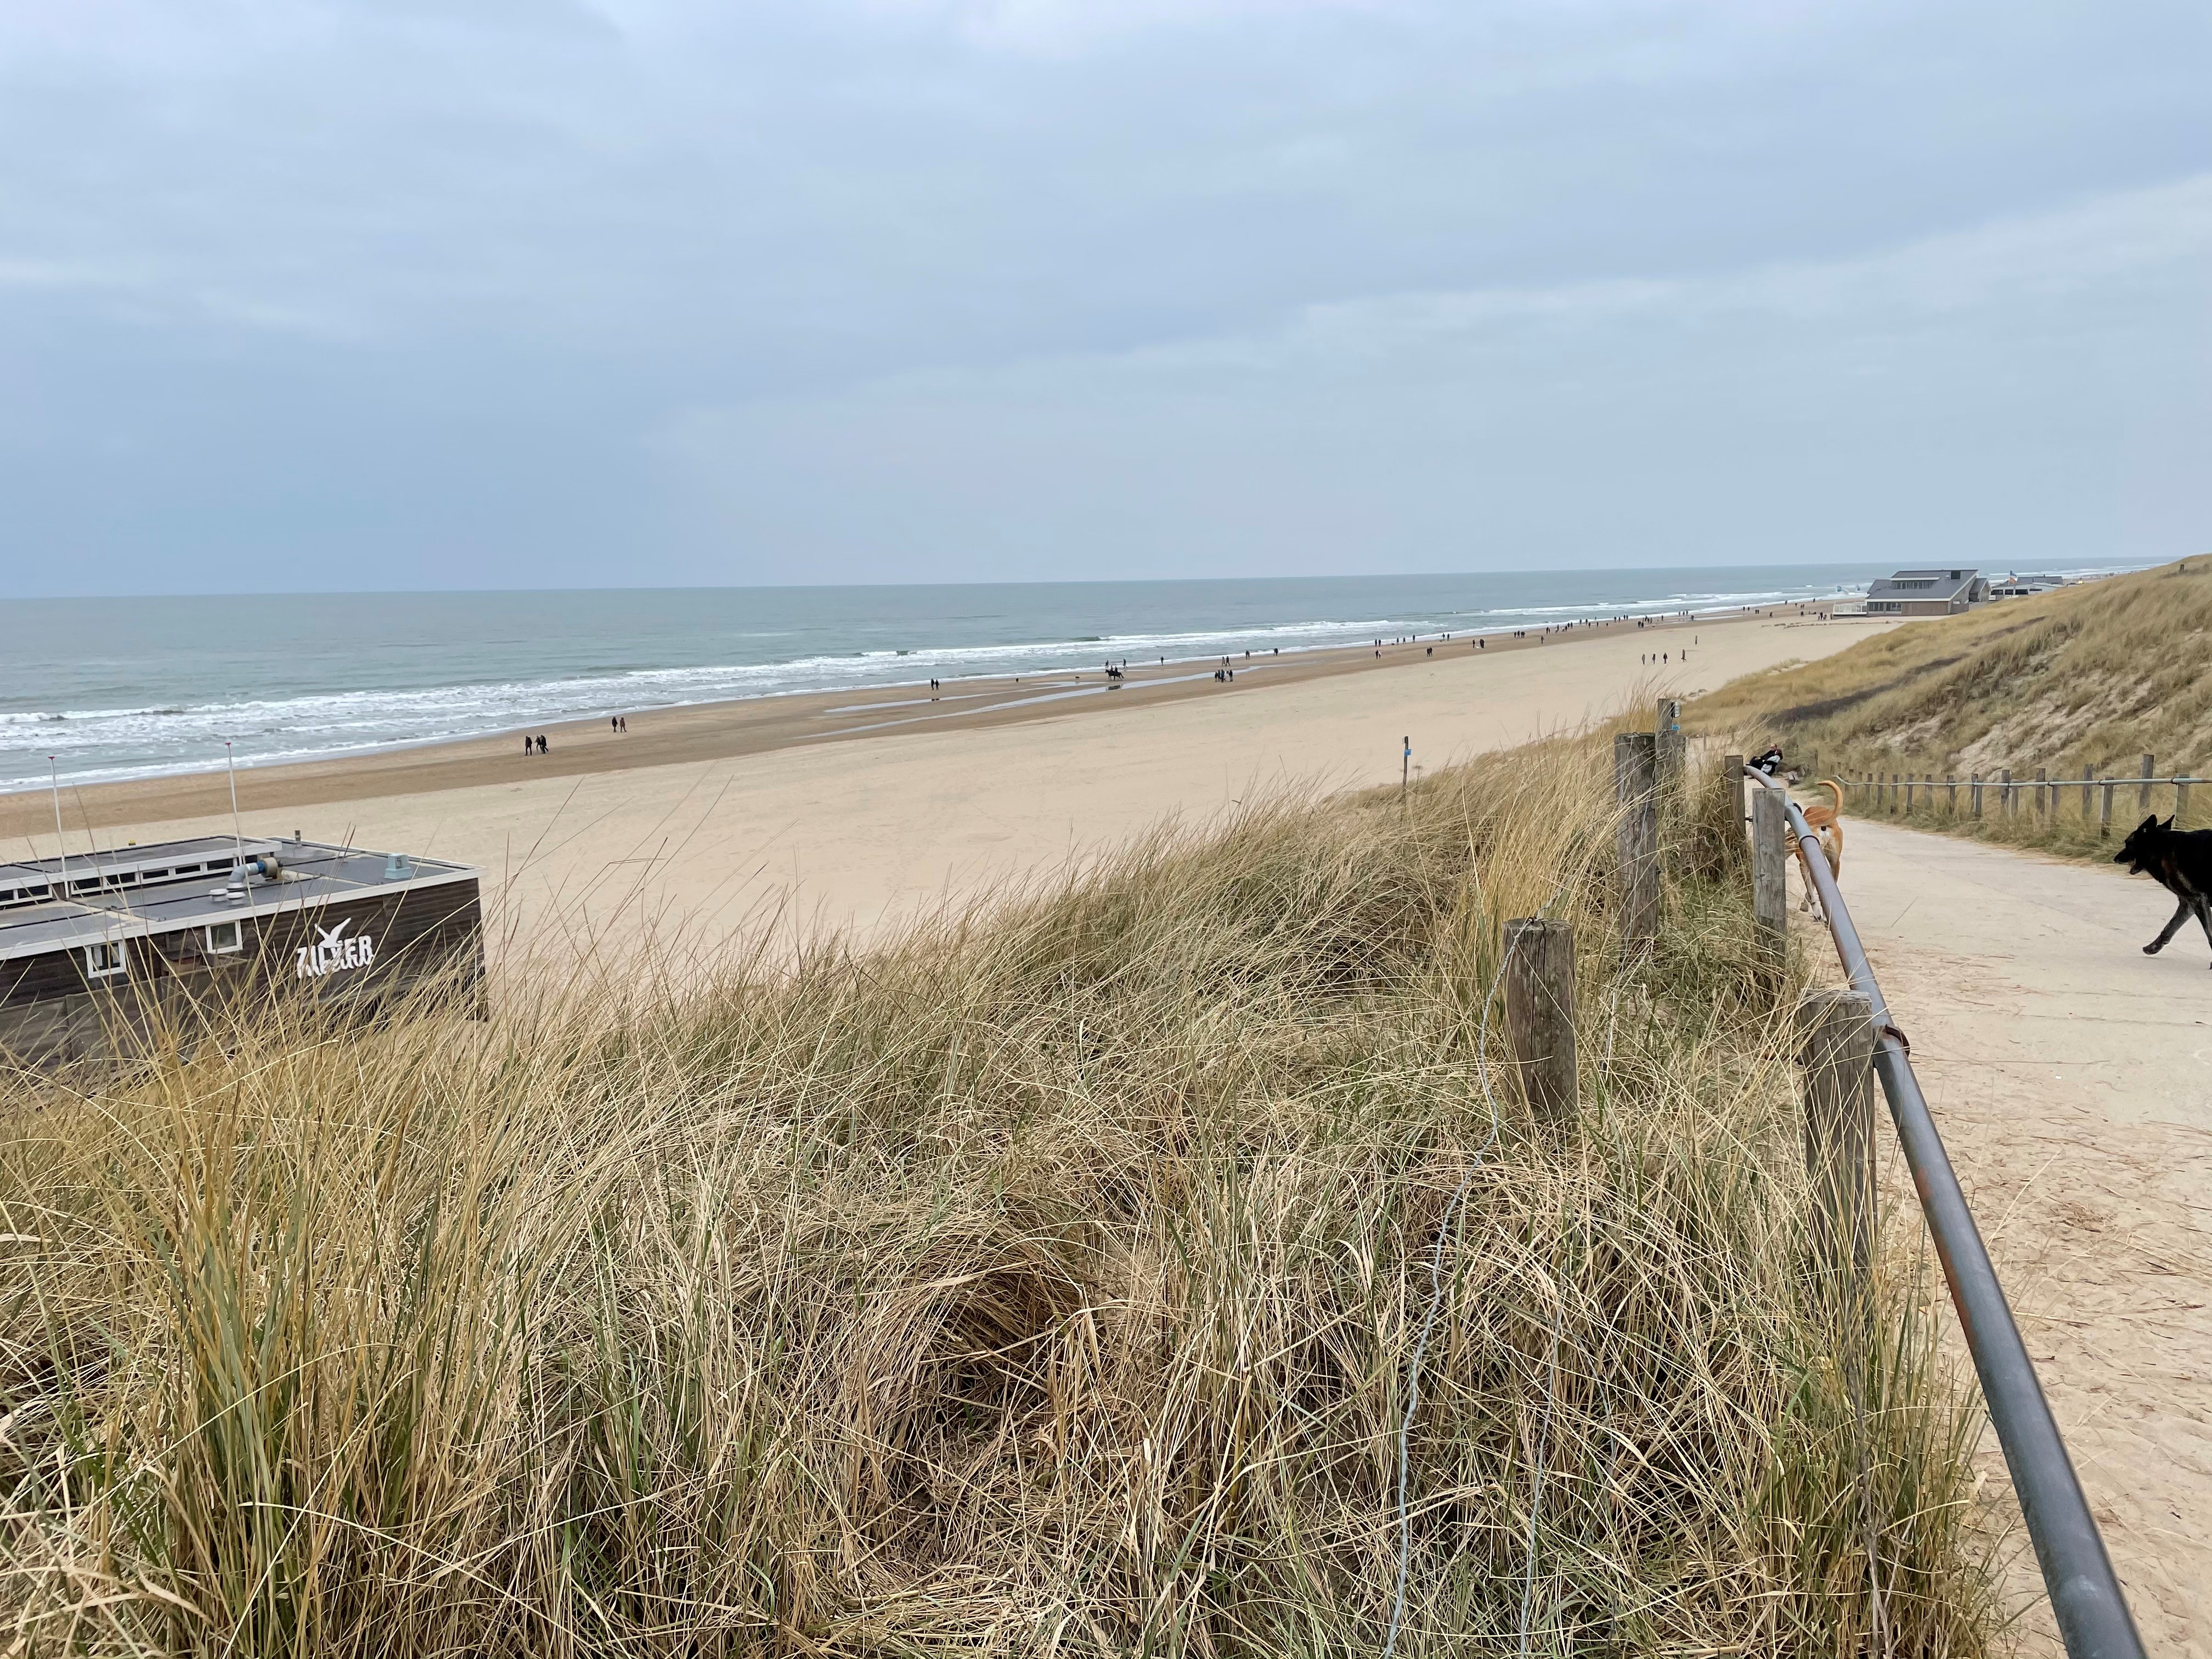pad: (1702, 742, 2212, 1363)
